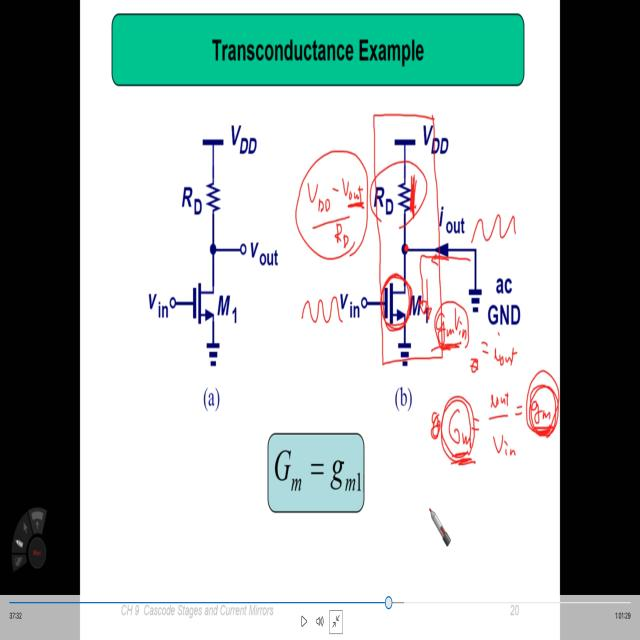panseo: (420, 385, 562, 481), (289, 149, 373, 277), (430, 296, 523, 381)
